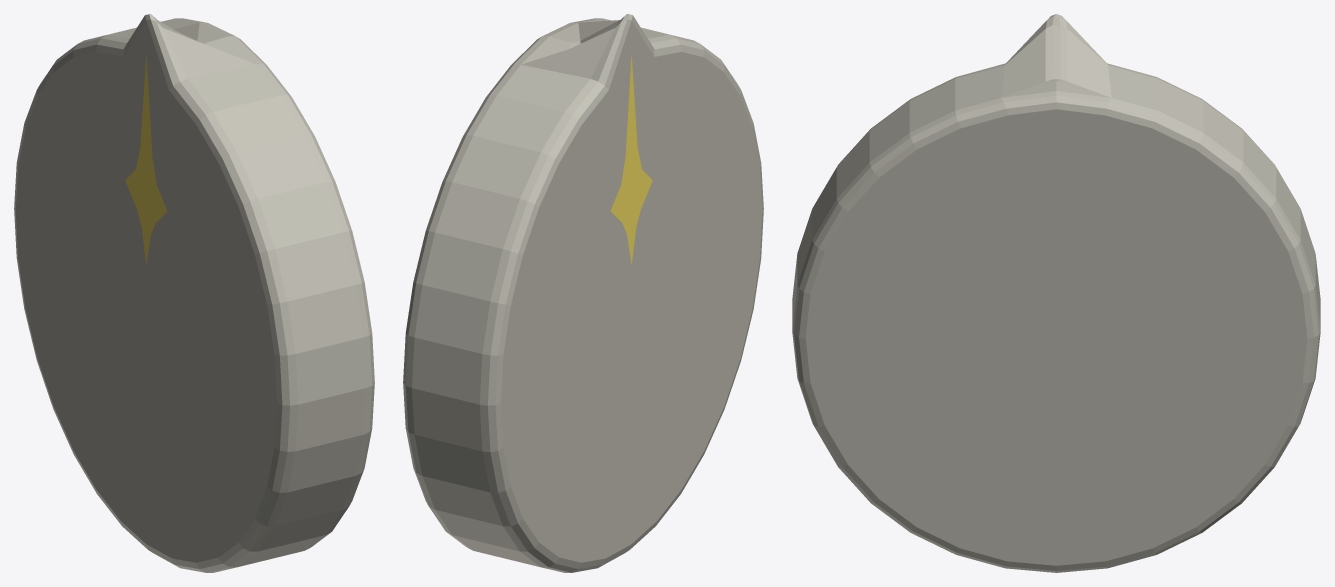
The model's file is Compass (1).fbx.
3 views of the same model, side by side, from view 1: azimuth 30°, elevation 25°; view 2: azimuth 150°, elevation 25°; view 3: azimuth 270°, elevation 25° (orthographic). The views are drawn at different scales.
Parts seen in each view (by area): view 1: Cylinder; view 2: Cylinder; view 3: Cylinder.
Boxes of the visible parts, x1,y1,x2,y2 form: Cylinder: (14,14,374,572); Cylinder: (403,14,763,572); Cylinder: (792,14,1320,572).
Size of the model in its own units: 18.29 by 98.43 by 90.62.
